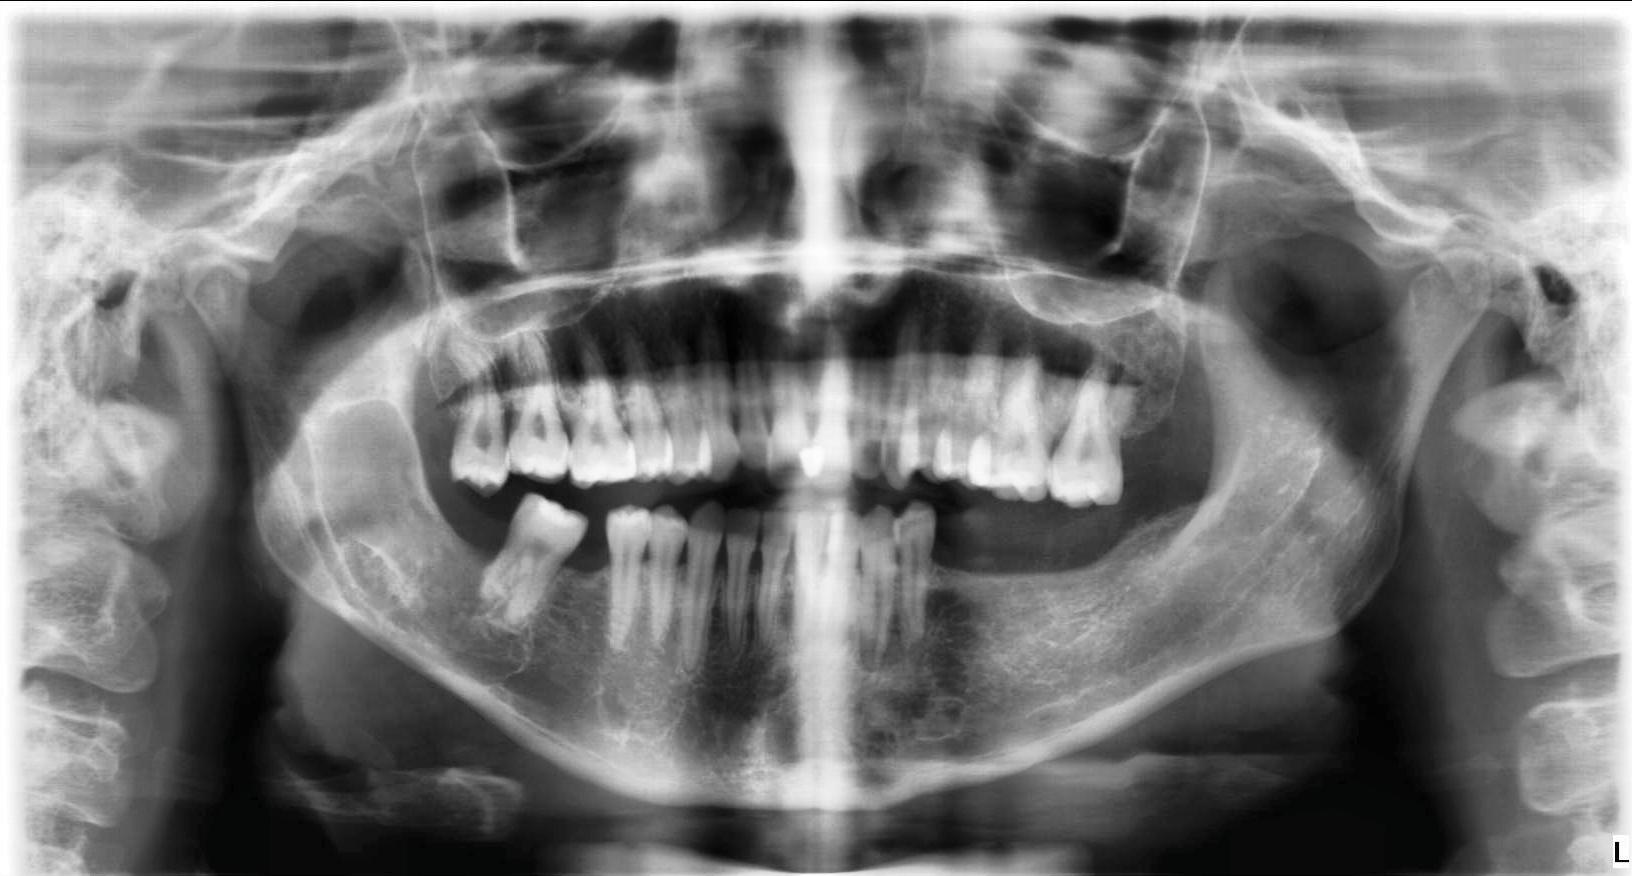keratokist: (312, 398, 449, 580)
